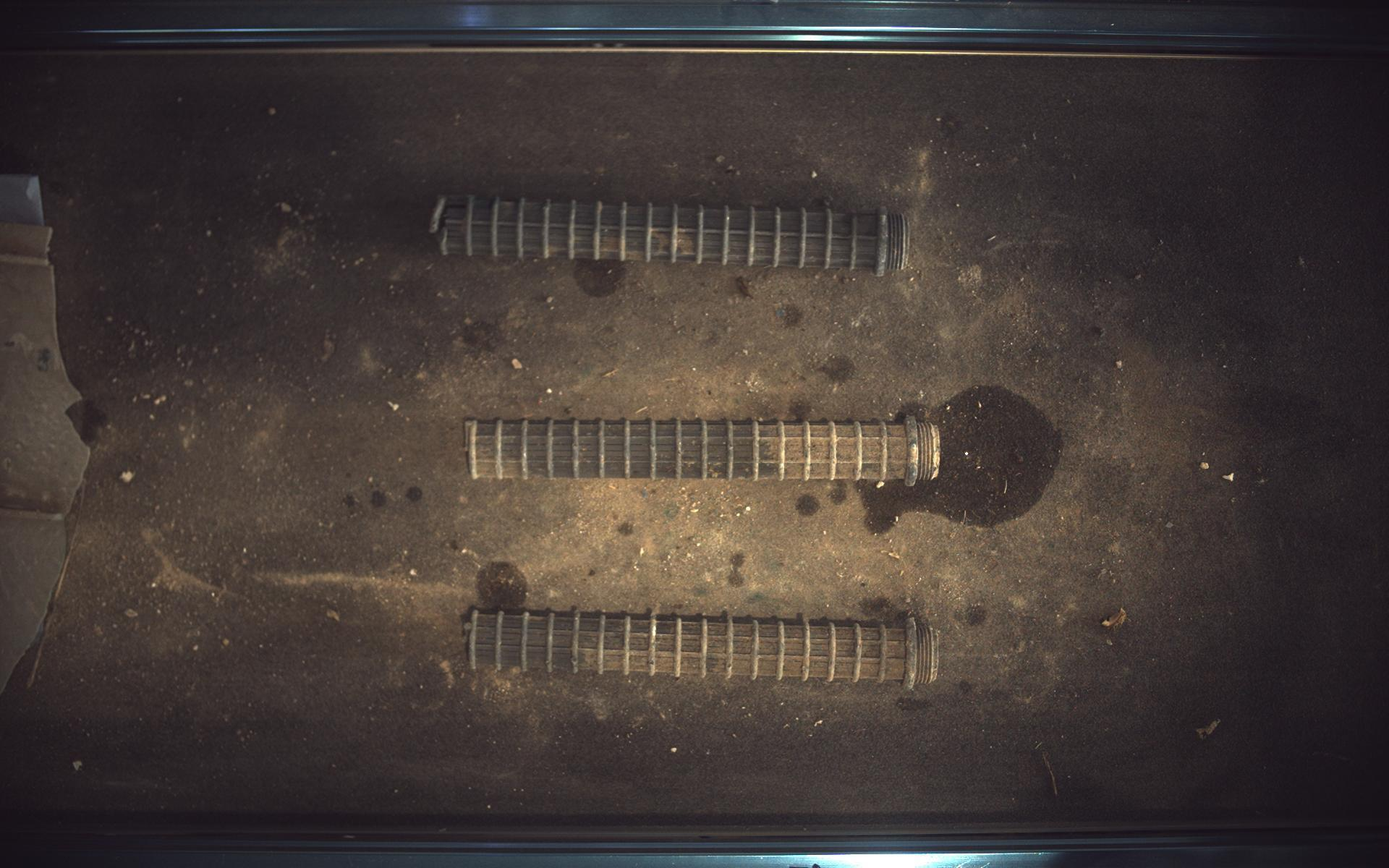plastic: (1, 220, 89, 691), (430, 194, 911, 276), (465, 610, 942, 691), (465, 417, 943, 486)
